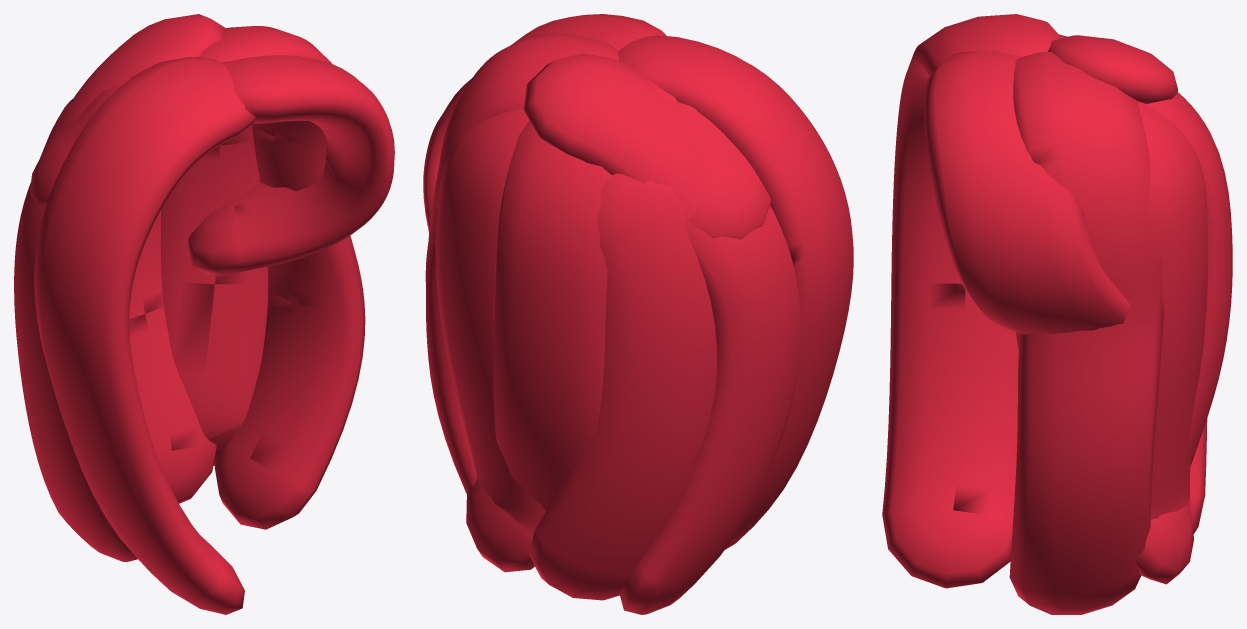
The model's file is hair for skinny straight.fbx.
3 views of the same model, side by side, from view 1: azimuth 30°, elevation 25°; view 2: azimuth 150°, elevation 25°; view 3: azimuth 270°, elevation 25° (orthographic). The views are drawn at different scales.
Visible parts, largest first — view 1: skinny4; view 2: skinny4; view 3: skinny4.
Boxes of the visible parts, bbox=[...] form: skinny4: bbox=[14, 14, 394, 614]; skinny4: bbox=[423, 14, 853, 614]; skinny4: bbox=[882, 14, 1232, 614].
Bounding box in the file's own units: 118 × 166 × 94.32.
